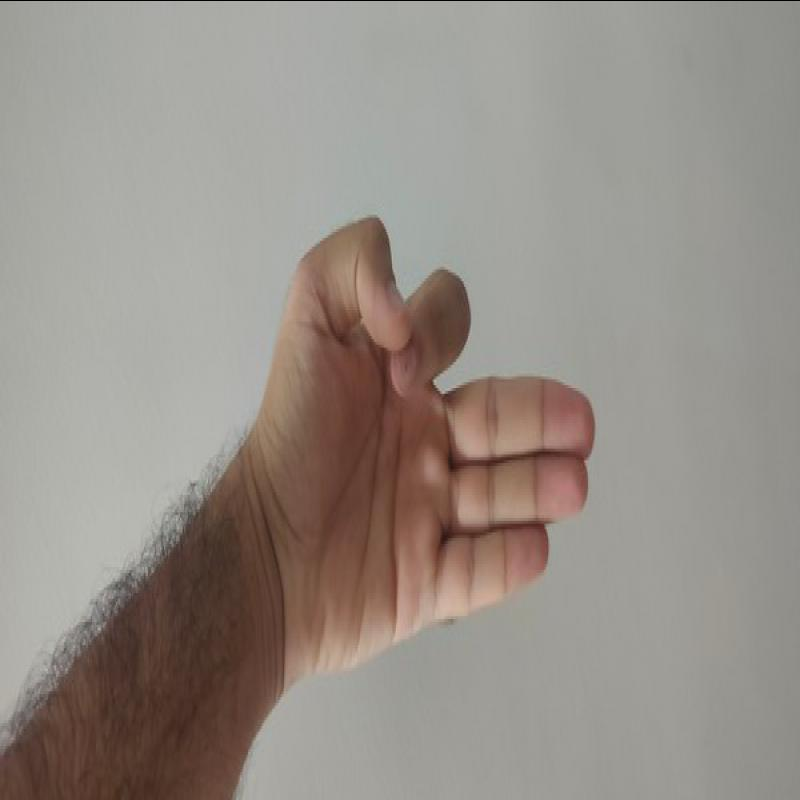Mudraakhyam: (257, 206, 605, 700)
